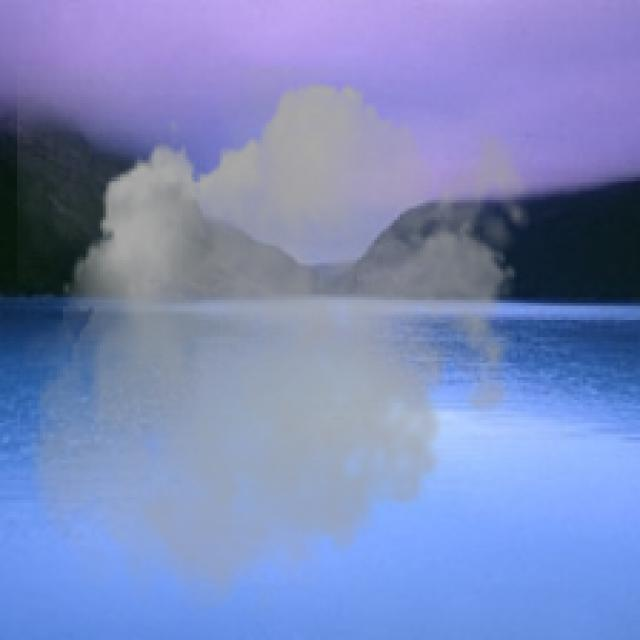Smoke: (17, 66, 546, 632)
